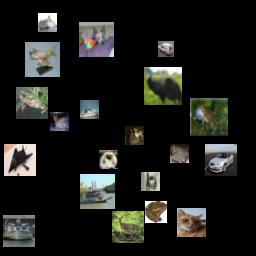airplane: (25, 42, 60, 77), (4, 144, 36, 176)
automobile: (205, 144, 237, 176), (158, 41, 174, 57)
bird: (144, 67, 182, 105)
cat: (177, 208, 206, 237), (141, 172, 160, 191), (50, 112, 69, 131)
deer: (112, 211, 144, 243), (125, 126, 144, 145)
dog: (79, 22, 114, 57), (99, 150, 118, 169)
frog: (190, 98, 228, 136), (16, 87, 48, 119), (145, 201, 167, 223), (170, 144, 189, 163)
ship: (80, 174, 115, 209), (3, 215, 35, 247), (80, 100, 99, 119), (38, 13, 57, 32)
